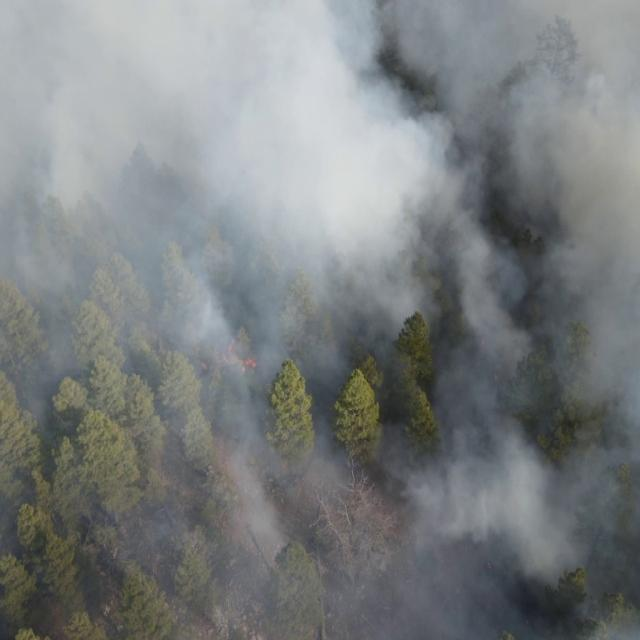fire: (197, 338, 258, 377)
smoke: (0, 0, 640, 640)
